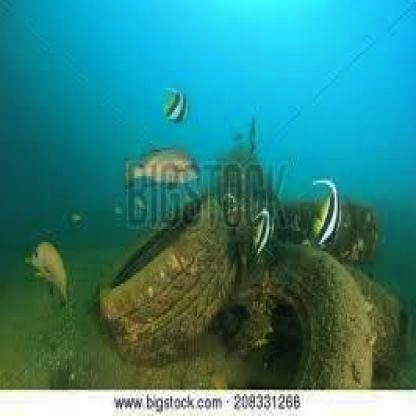tire: (264, 242, 387, 416), (107, 200, 245, 354)
